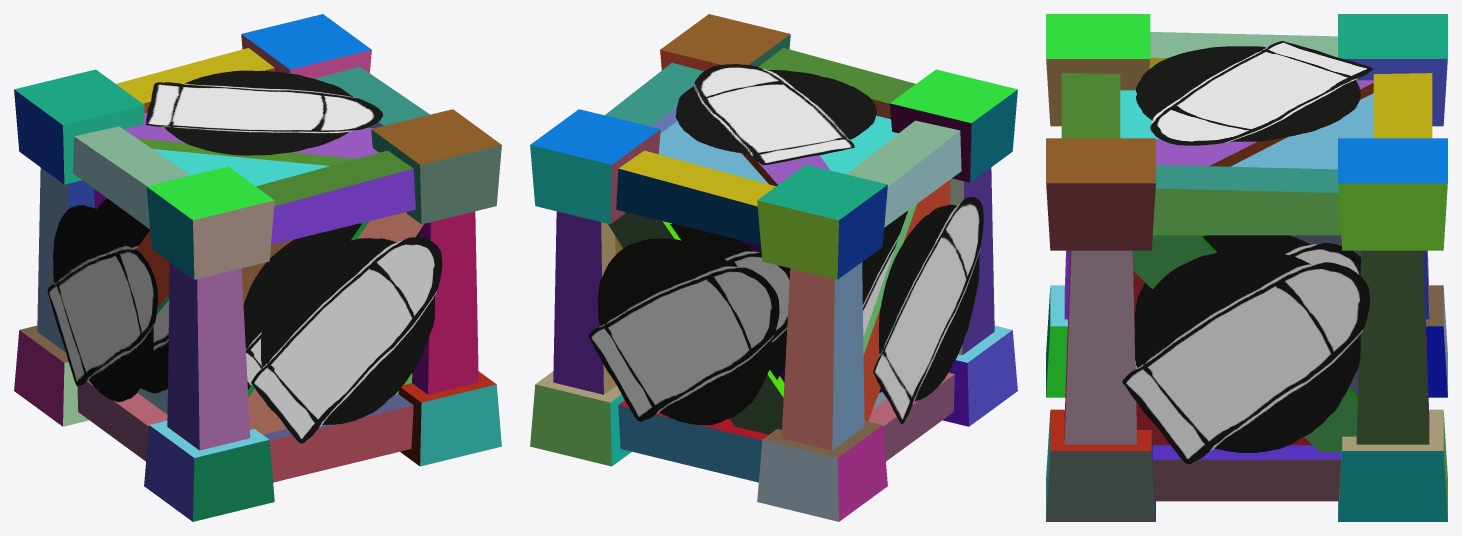
The model's file is normalCrate.fbx.
The picture shows the model from 3 angles, left to right: view 1: azimuth 30°, elevation 25°; view 2: azimuth 150°, elevation 25°; view 3: azimuth 270°, elevation 25°; orthographic projection. The views are drawn at different scales.
Parts seen in each view (by area): view 1: DemoCrate1_Solid, Curve.003, Curve.006, Curve.007; view 2: DemoCrate1_Solid, Curve.005, Curve.006, Curve.007; view 3: DemoCrate1_Solid, Curve.004, Curve.007.
Boxes of the visible parts, x1,y1,x2,y2 form: DemoCrate1_Solid: [14, 14, 501, 521]; Curve.003: [243, 223, 442, 443]; Curve.006: [47, 198, 169, 401]; Curve.007: [145, 70, 382, 155]; DemoCrate1_Solid: [530, 14, 1017, 521]; Curve.005: [588, 223, 790, 425]; Curve.006: [862, 197, 983, 423]; Curve.007: [675, 64, 876, 164]; DemoCrate1_Solid: [1046, 14, 1447, 521]; Curve.004: [1122, 235, 1369, 463]; Curve.007: [1136, 41, 1372, 145].
Size of the model in its own units: 131 by 125 by 131.
